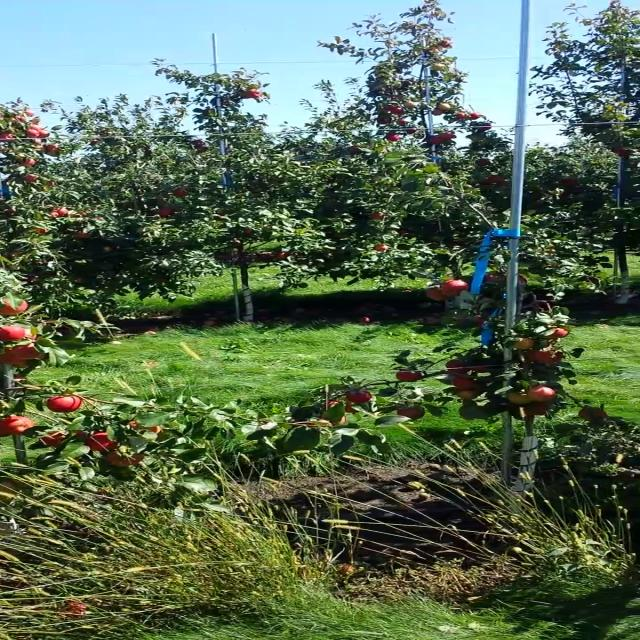apple: (86, 432, 118, 452), (104, 452, 148, 466), (5, 342, 39, 360), (526, 384, 558, 402), (48, 397, 83, 413), (6, 416, 35, 434), (38, 431, 66, 447), (443, 280, 470, 296), (1, 299, 28, 315), (0, 325, 25, 342), (532, 349, 562, 363), (129, 422, 163, 434), (446, 358, 471, 374), (426, 288, 454, 302), (508, 391, 534, 406), (1, 353, 27, 368), (451, 374, 476, 388), (524, 404, 548, 418), (399, 408, 426, 420), (346, 392, 372, 404), (396, 371, 424, 381), (516, 337, 536, 351), (580, 410, 604, 420), (0, 418, 12, 437), (459, 390, 480, 400), (551, 328, 570, 338), (331, 414, 345, 426), (323, 401, 342, 409), (474, 315, 486, 327), (343, 403, 357, 413), (313, 418, 330, 426), (516, 276, 529, 286), (25, 328, 36, 339), (474, 364, 489, 372), (487, 274, 500, 282), (77, 430, 87, 438)
